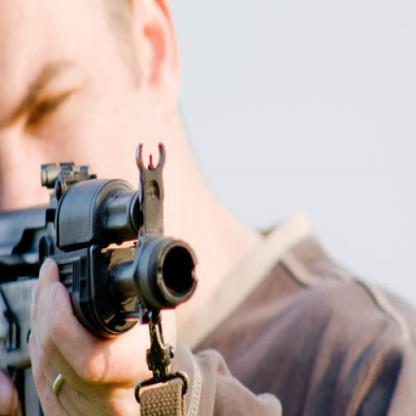gun: (0, 154, 196, 415)
